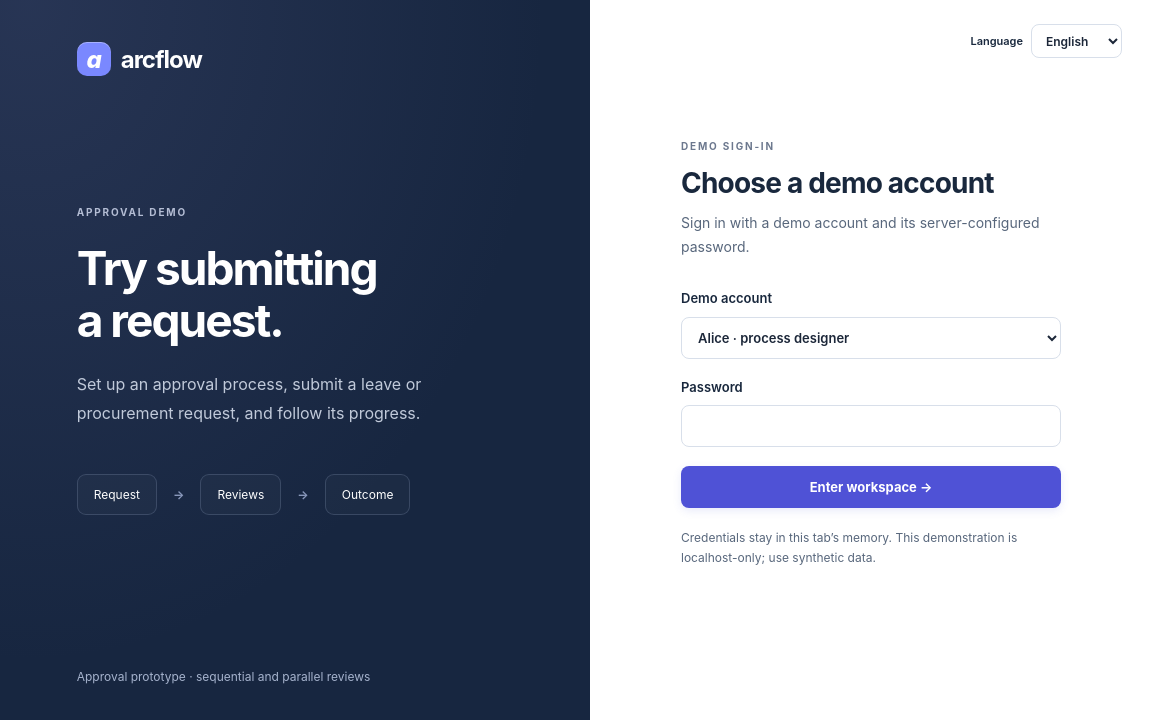
Scenario: authentication and session isolation › shows login errors without entering the workspace or keeping credentials
The image size is (1152, 720).
Type "demo-password" into the password field labelled "Password" at (871, 426), box [681,405,1061,447]
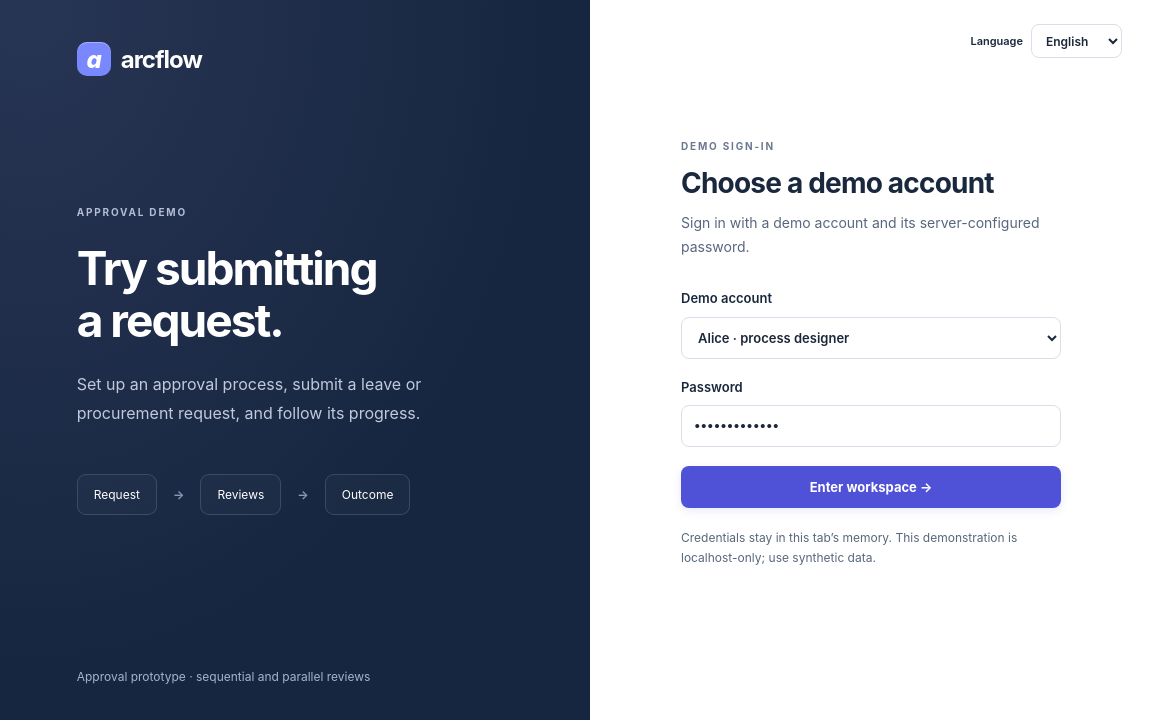
Submit the form with class "login-form", box [681,139,1061,581]
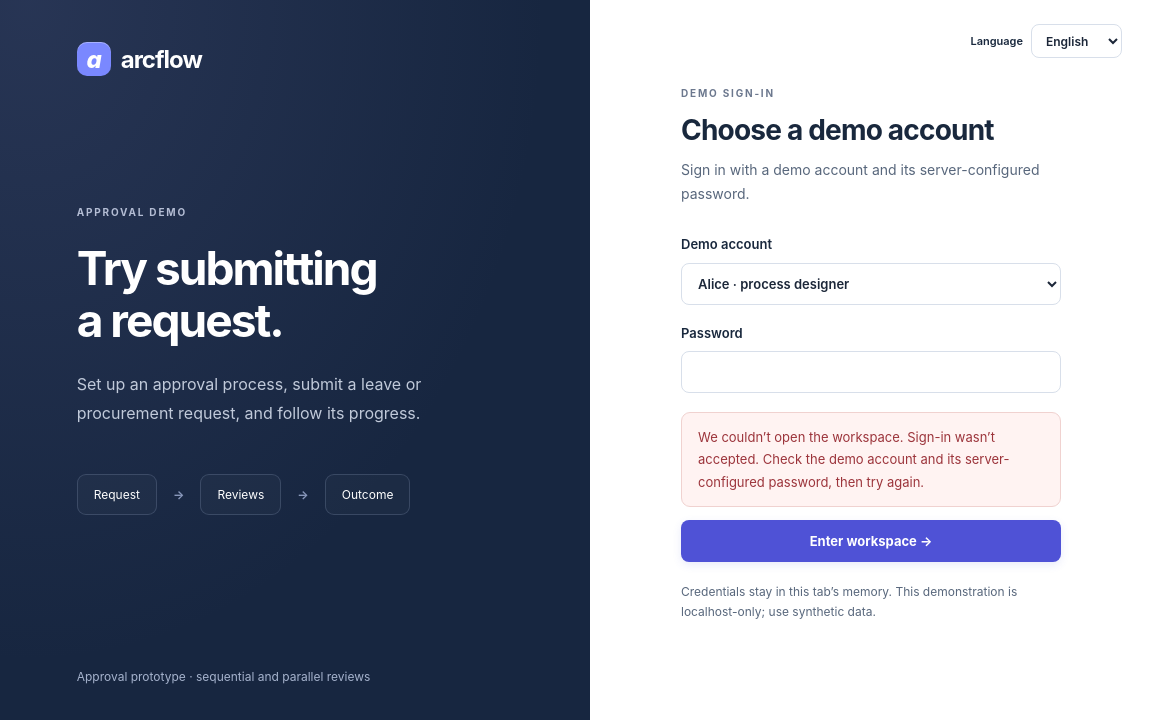
Check: the message shows "Check the demo account and its server-configured password", box [698,429,1009,490]
Check: the password field labelled "Password" is empty, box [681,351,1061,393]
